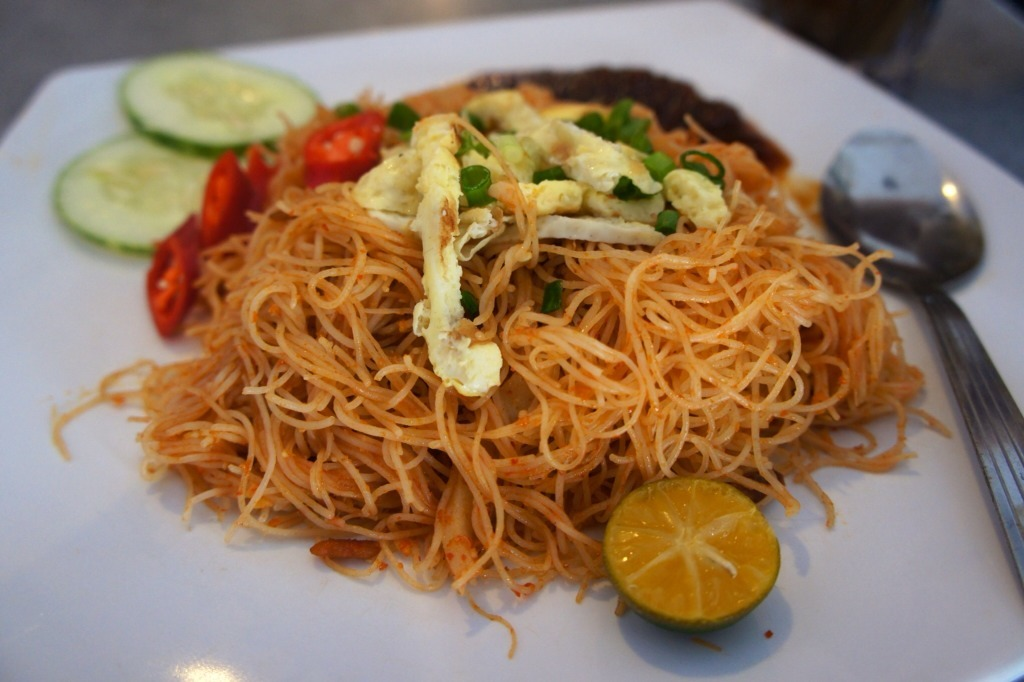Ripe: (590, 479, 792, 641)
